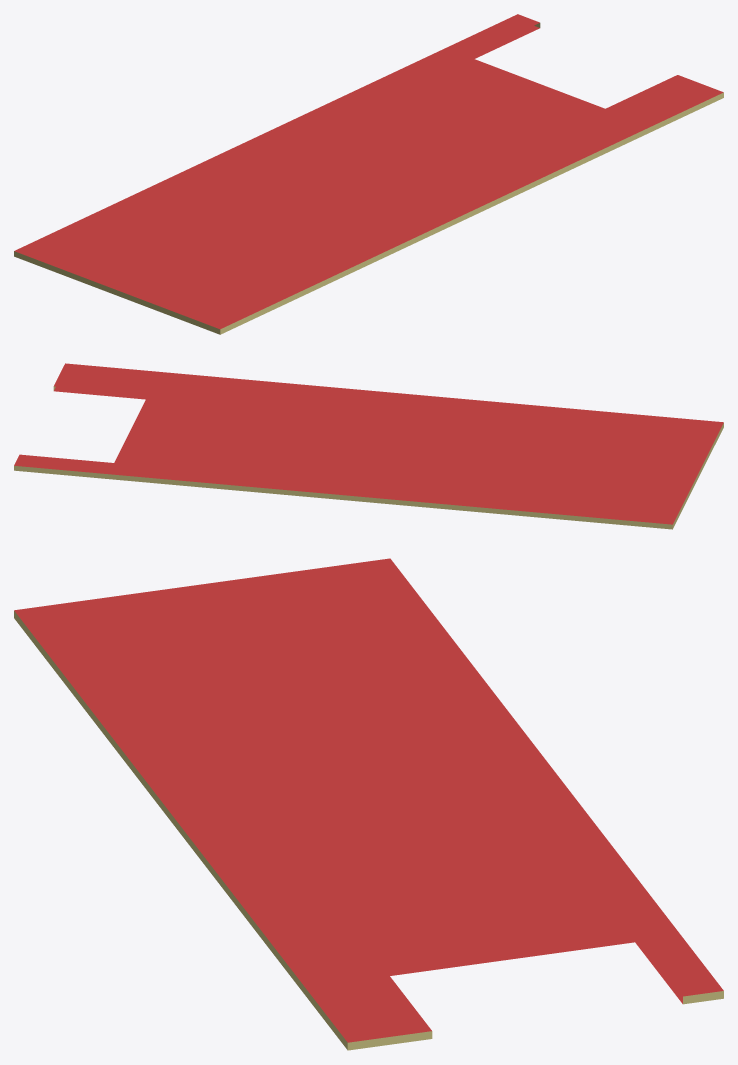
3 views of the same model, one above another, from view 1: azimuth 30°, elevation 25°; view 2: azimuth 150°, elevation 25°; view 3: azimuth 270°, elevation 25° (orthographic). The views are drawn at different scales.
Bounding box in the file's own units: 13.24 × 8.2 × 0.1.
